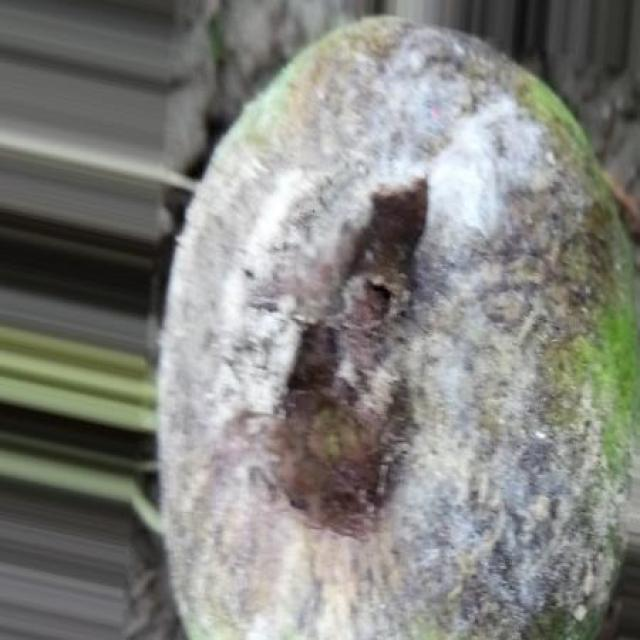Phytopthora: (160, 18, 636, 640)
